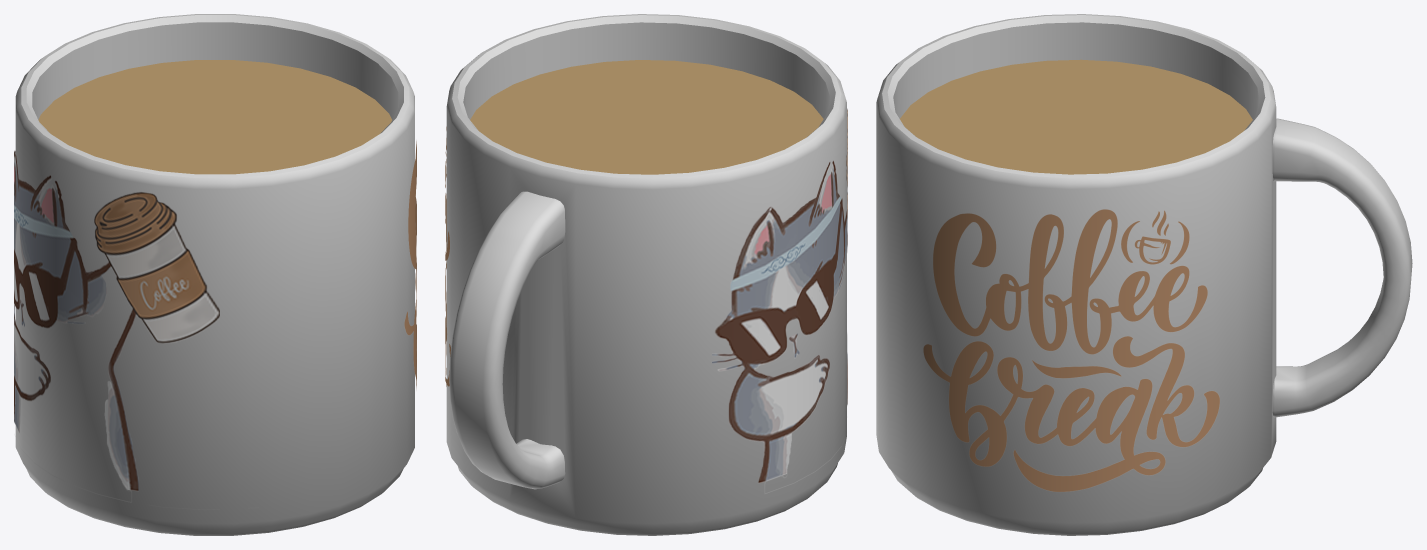
File: mug.gltf
3 renders of one model, left to right at view 1: azimuth 30°, elevation 25°; view 2: azimuth 150°, elevation 25°; view 3: azimuth 270°, elevation 25°, orthographic.
Visible parts, largest first — view 1: ChamferCyl001.001, Cylinder010.002, Ninja Coffee Cat_Coffee Break1.001, Ninja Coffee Cat_Coffee Break1; view 2: ChamferCyl001.001, Cylinder010.002, Ninja Coffee Cat_Coffee Break1.001, Ninja Coffee Cat_Coffee Break1; view 3: ChamferCyl001.001, Ninja Coffee Cat_Coffee Break1, Cylinder010.002.
Part boxes in pixels (x1,y1,x2,y2): ChamferCyl001.001: (15, 14, 414, 535); Cylinder010.002: (38, 60, 391, 174); Ninja Coffee Cat_Coffee Break1.001: (14, 150, 219, 502); Ninja Coffee Cat_Coffee Break1: (404, 140, 416, 389); ChamferCyl001.001: (446, 14, 846, 535); Cylinder010.002: (470, 60, 823, 174); Ninja Coffee Cat_Coffee Break1.001: (712, 109, 847, 493); Ninja Coffee Cat_Coffee Break1: (445, 126, 450, 386); ChamferCyl001.001: (876, 14, 1412, 535); Ninja Coffee Cat_Coffee Break1: (923, 209, 1219, 492); Cylinder010.002: (900, 59, 1252, 174).
Size of the model in its own units: 0.1406 by 0.1399 by 0.1874.
4 materials, 2 textured.
